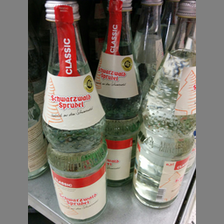water: (42, 1, 109, 222), (135, 1, 194, 210), (95, 1, 141, 186)
